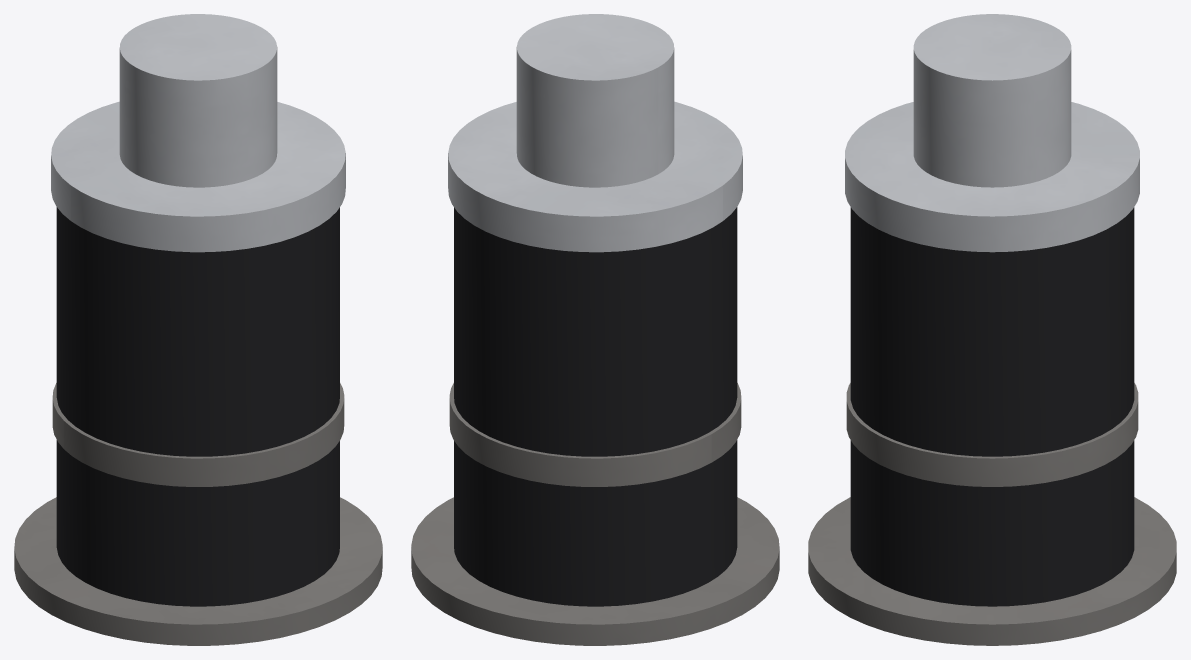
File: stage07_drogue_chute.glb
3 views of the same model, side by side, from view 1: azimuth 30°, elevation 25°; view 2: azimuth 150°, elevation 25°; view 3: azimuth 270°, elevation 25° (orthographic).
Parts seen in each view (by area): view 1: canister, lid, mortar, base_flange, band; view 2: canister, lid, mortar, base_flange, band; view 3: canister, lid, mortar, base_flange, band.
Part boxes in pixels (<box>): canister: <box>56,207,339,606</box>; lid: <box>51,101,345,252</box>; mortar: <box>119,14,277,187</box>; base_flange: <box>14,497,382,645</box>; band: <box>52,383,344,486</box>; canister: <box>454,207,737,606</box>; lid: <box>448,101,742,252</box>; mortar: <box>516,14,674,187</box>; base_flange: <box>411,497,779,645</box>; band: <box>449,383,741,486</box>; canister: <box>850,207,1134,606</box>; lid: <box>845,102,1139,252</box>; mortar: <box>913,14,1071,187</box>; base_flange: <box>808,497,1176,645</box>; band: <box>846,383,1138,486</box>.
Size of the model in its own units: 0.4678 by 0.73 by 0.4679.
3 materials, 2 textured.
